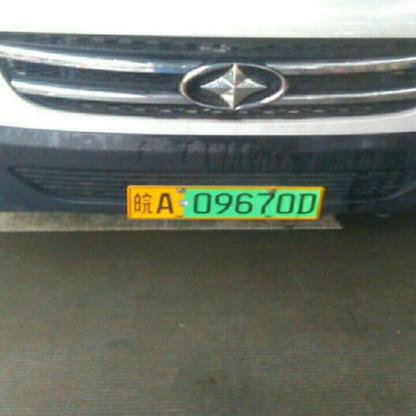lp: (128, 186, 320, 218)
